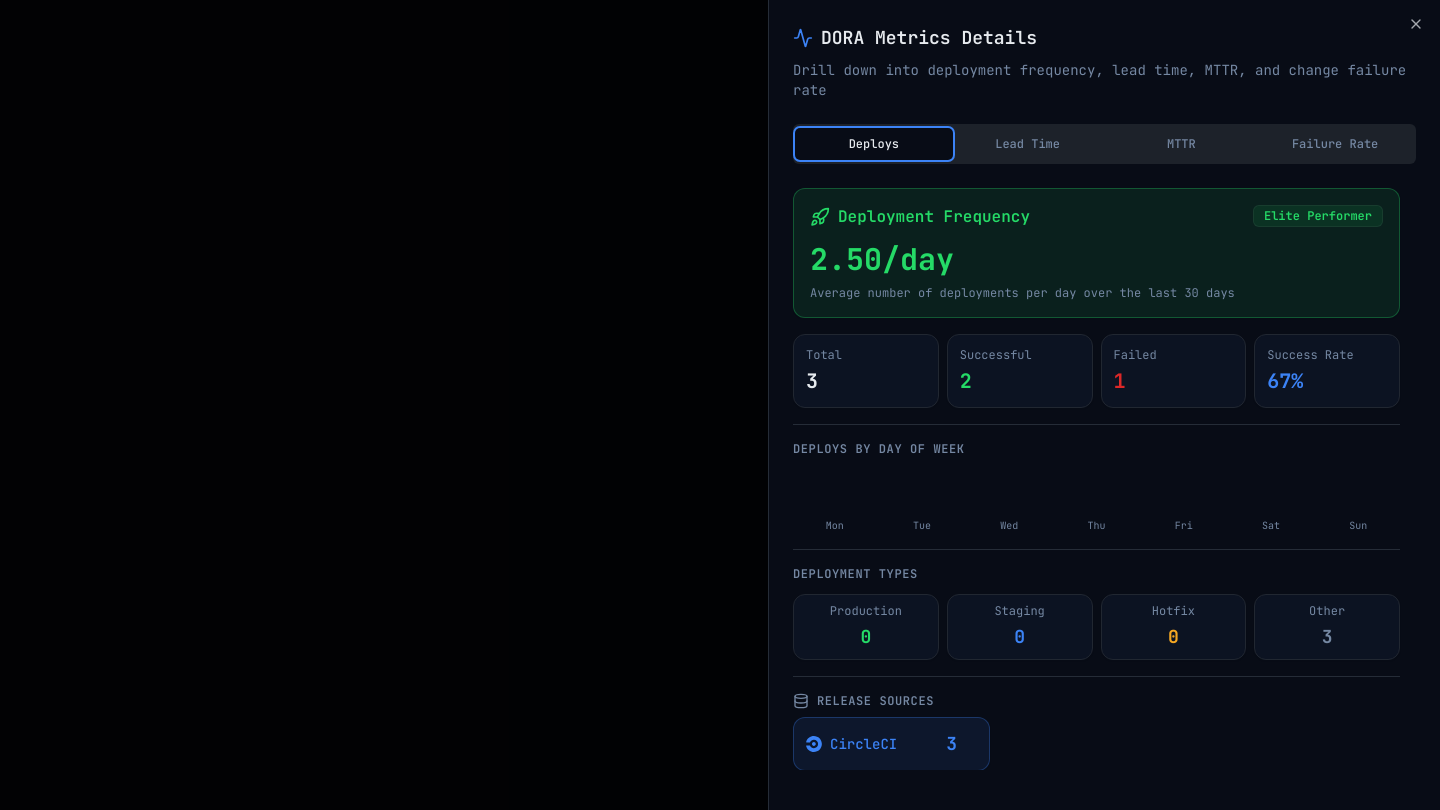
Test case: DeploymentFrequencyDetail - Filtering › Status filtering › should filter releases when clicking Successful card
This screenshot has width=1440, height=810.
Click the button "Successful 2" at coordinates (1020, 371), box [947,334,1093,408]
(page scrolled)
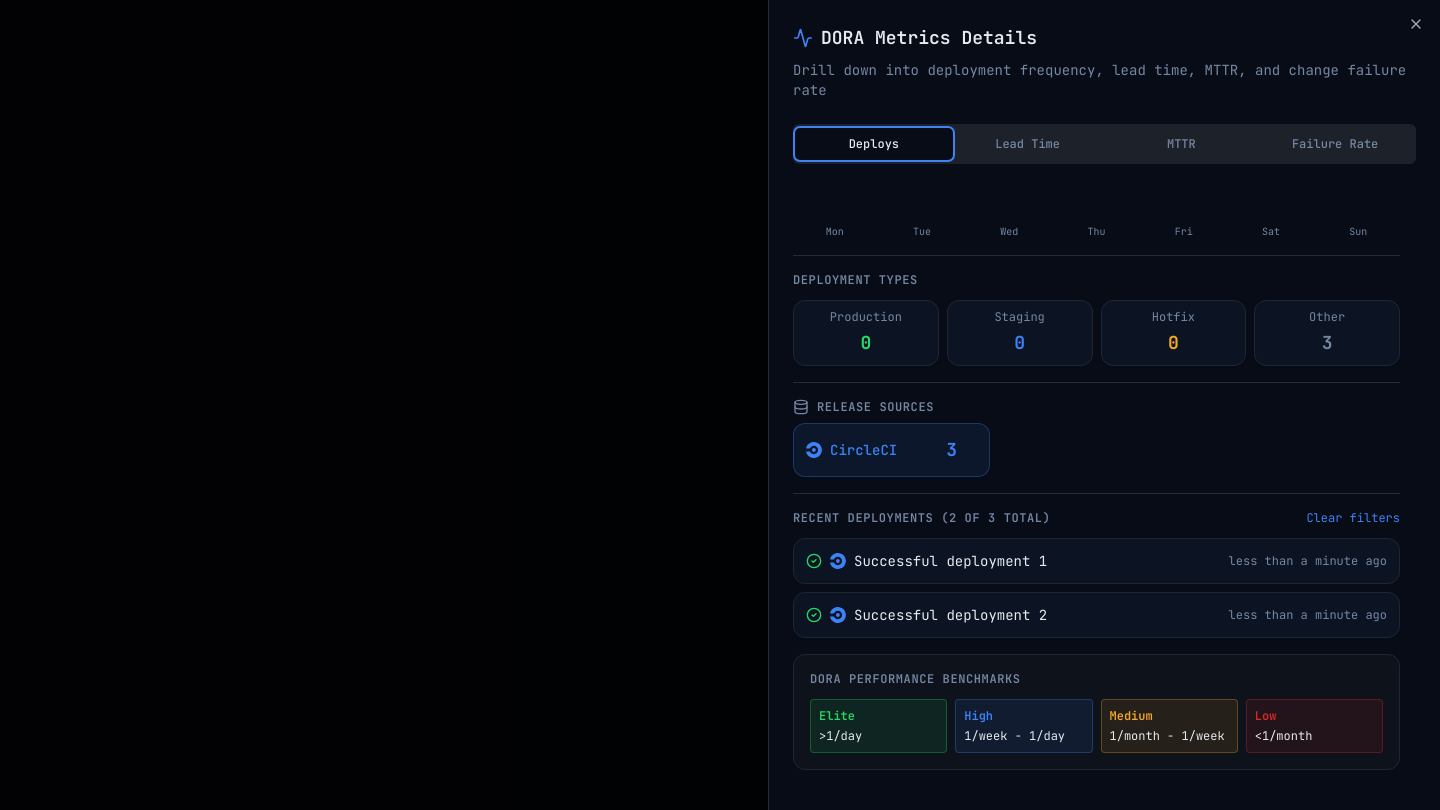
Check: the heading "Recent Deployments (2 of 3 total)" is shown, box [793,510,1050,526]
Check: the text "Successful deployment 1" is shown, box [854,551,1047,571]
Check: the text "Successful deployment 2" is shown, box [854,605,1047,625]
